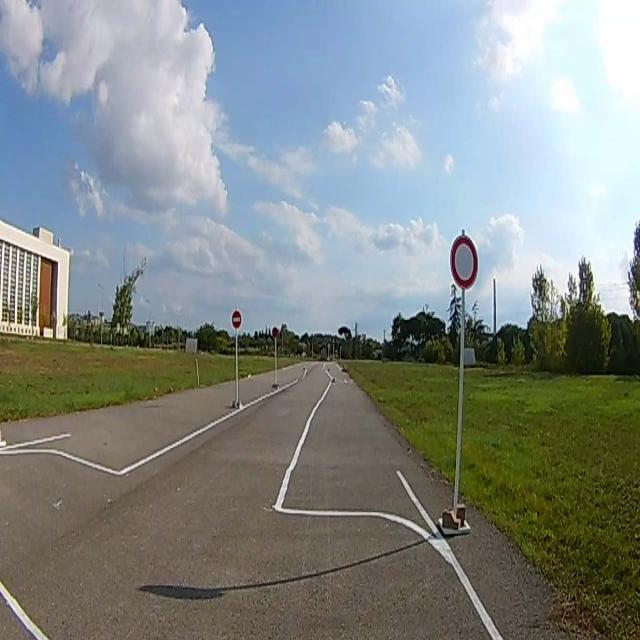girisyok: (231, 311, 241, 330)
